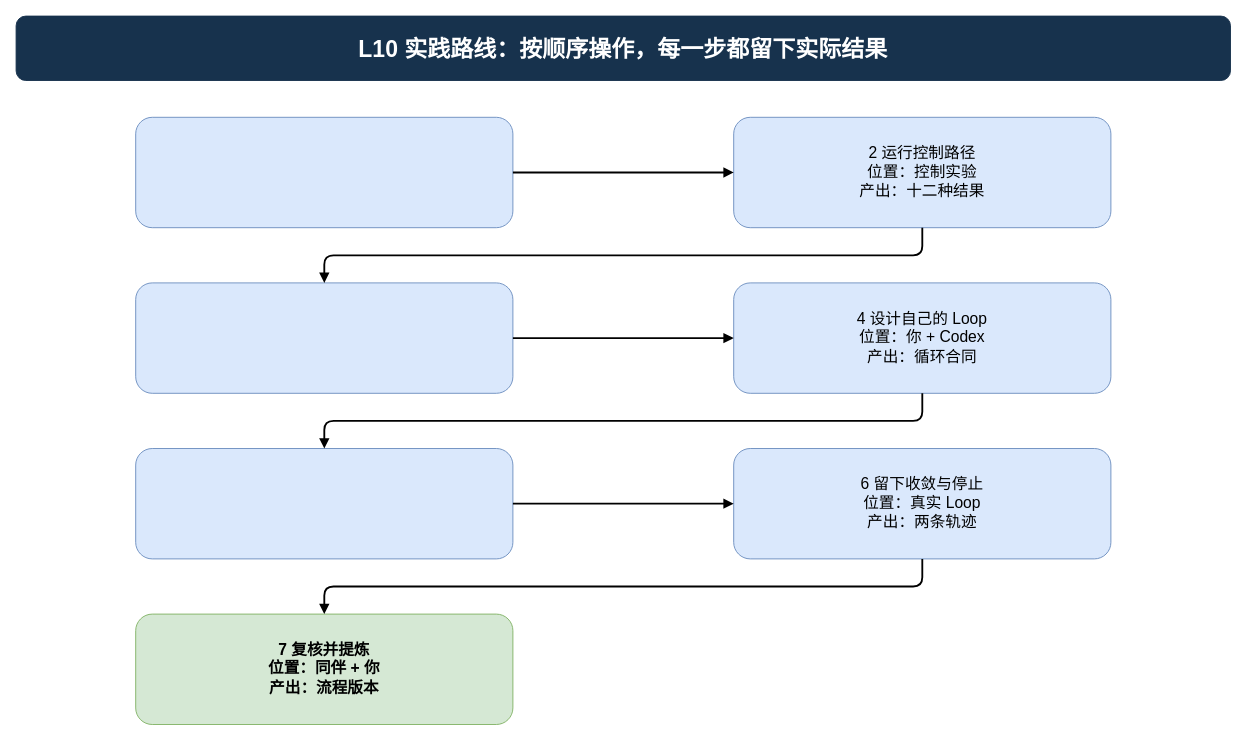
This 1247x741 diagram has some shape labels left out. Each missing label, with the centre of its shape:
1 固定环境与轮数 位置：控制仓库 产出：计数约定: point (324, 172)
3 验证发货状态 位置：客户环境 产出：合法/非法状态: point (324, 337)
5 实现受控 Loop 位置：隔离候选 产出：范围内实现: point (324, 503)
